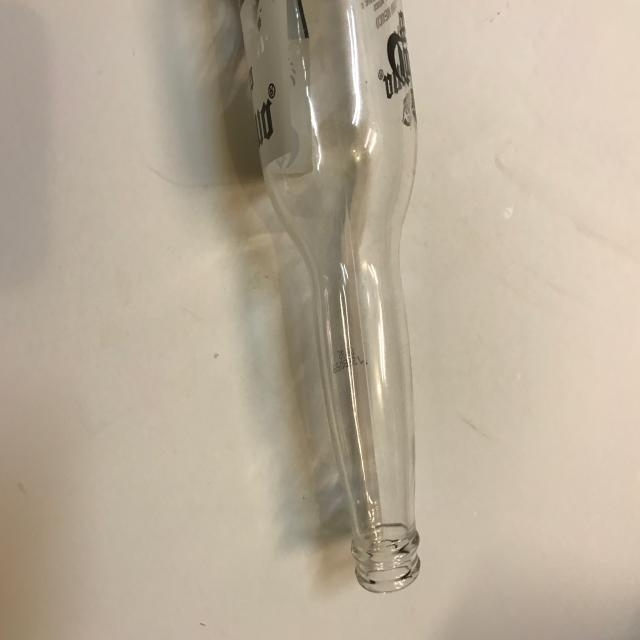glass: (238, 0, 423, 593)
